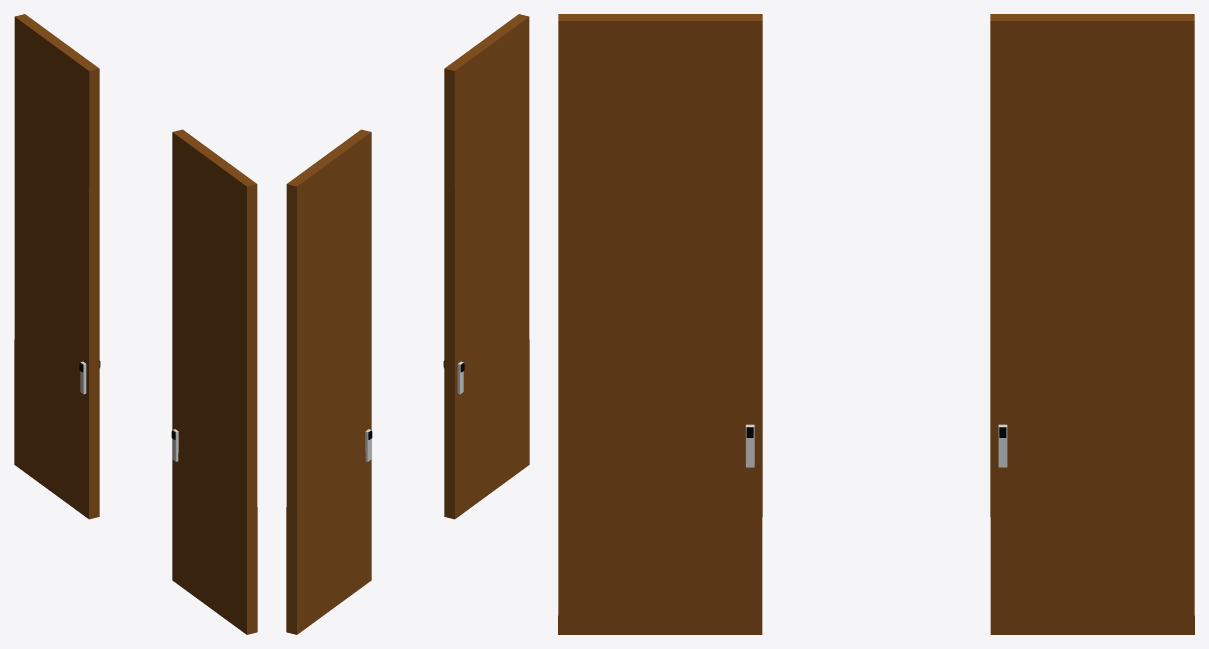
Rendered from HighDoor.fbx.
3 views of the same model, side by side, from view 1: azimuth 30°, elevation 25°; view 2: azimuth 150°, elevation 25°; view 3: azimuth 270°, elevation 25° (orthographic). The views are drawn at different scales.
Visible parts, largest first — view 1: DubleDoorR, DubleDoorL; view 2: DubleDoorL, DubleDoorR; view 3: DubleDoorL, DubleDoorR.
Boxes of the visible parts, x1,y1,x2,y2 form: DubleDoorR: (171,129,257,634); DubleDoorL: (14,14,100,519); DubleDoorL: (286,129,372,634); DubleDoorR: (443,14,529,519); DubleDoorL: (990,14,1194,634); DubleDoorR: (558,14,762,634).
Bounding box in the file's own units: 13.09 × 298 × 280.
